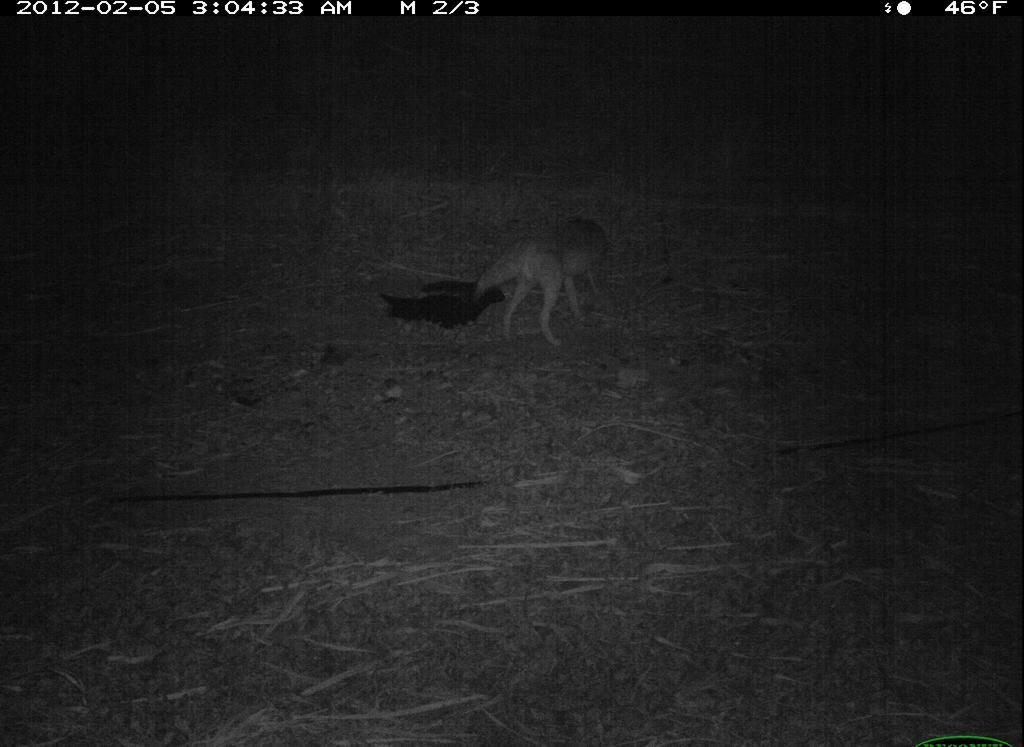coyote: (468, 203, 617, 360)
